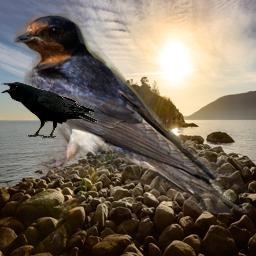Crow: (1, 82, 99, 139)
Swallow: (13, 13, 254, 221)
